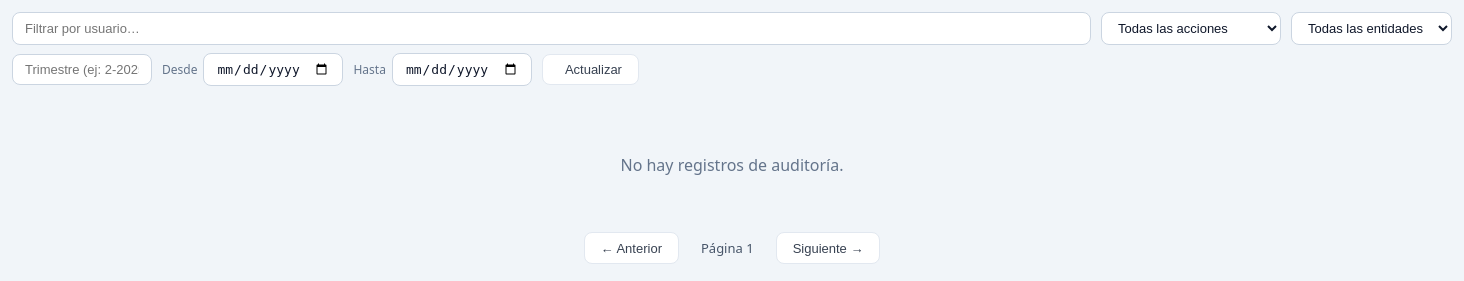
Test case: TabAuditoria — Limpiar filtros › resetea todos los filtros y vuelve a la página 0
This screenshot has width=1464, height=281.
Step 1. Type "x@x.com" into the field with placeholder "Filtrar por usuario…" → {"x": 552, "y": 28}, box [12,12,1091,45]
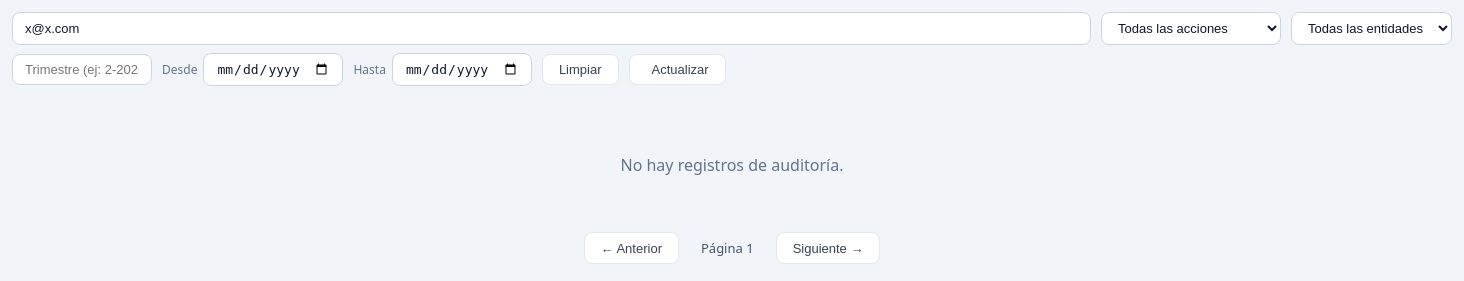
Expected: the button "Limpiar" is shown
Step 2. Click the button "Limpiar" → {"x": 580, "y": 70}, box [542,54,618,85]
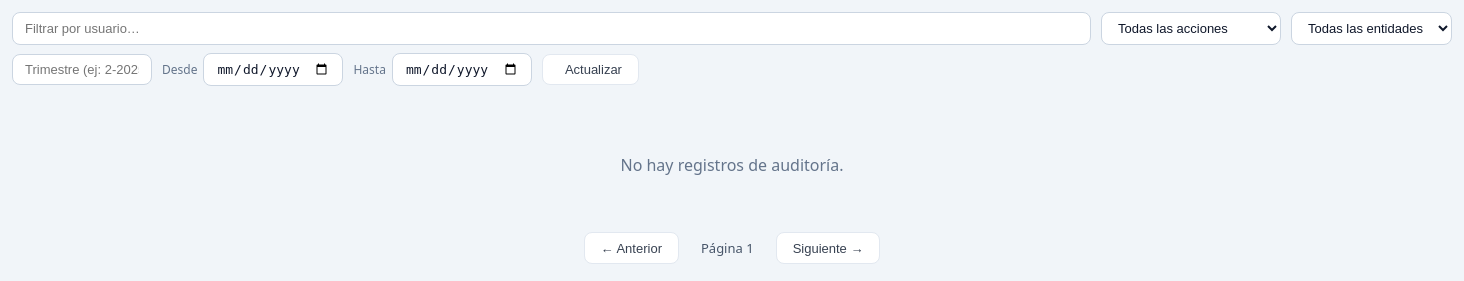
Expected: the field with placeholder "Filtrar por usuario…" is empty, [12,12,1091,45]
